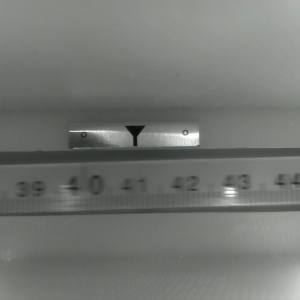0: (88, 174, 104, 195)
1: (131, 178, 139, 192)
2: (187, 176, 199, 192)
3: (238, 175, 251, 192)
4: (65, 177, 79, 194), (274, 173, 286, 189), (291, 173, 300, 188)
finger: (123, 126, 145, 146)
